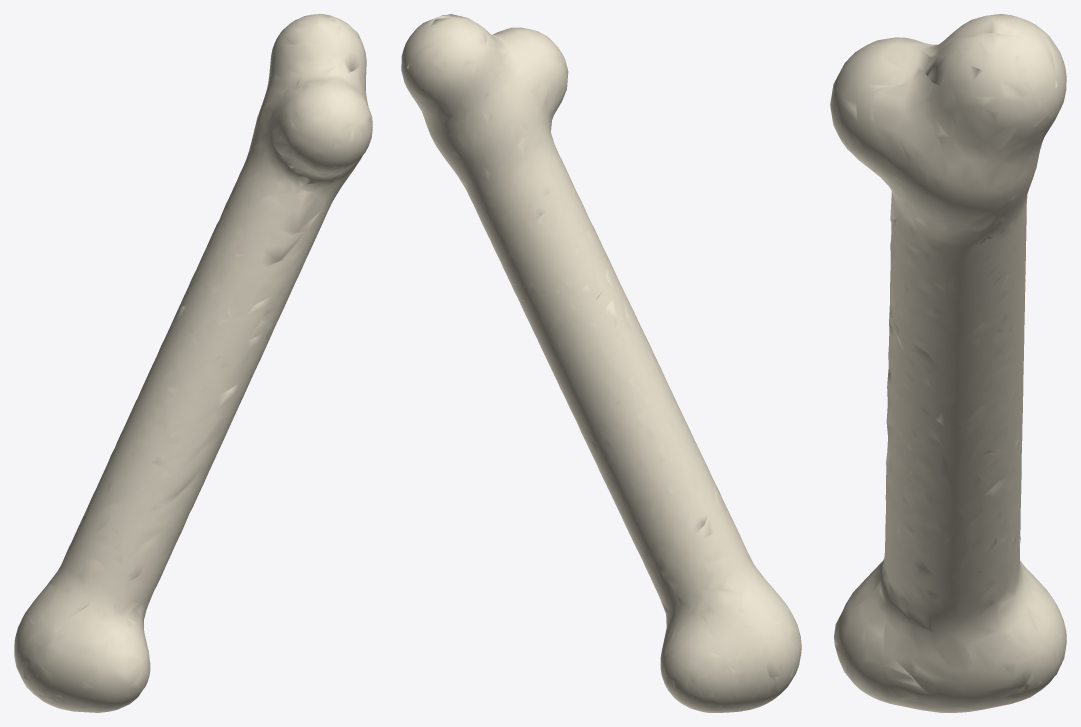
Rendered from femur_r.glb.
3 renders of one model, left to right at view 1: azimuth 30°, elevation 25°; view 2: azimuth 150°, elevation 25°; view 3: azimuth 270°, elevation 25°, orthographic. The views are drawn at different scales.
Parts seen in each view (by area): view 1: geometry_0; view 2: geometry_0; view 3: geometry_0.
Part boxes in pixels (box(x1,y1,x2,y2)): geometry_0: box(14, 14, 372, 712); geometry_0: box(401, 14, 801, 712); geometry_0: box(830, 14, 1066, 712).
Bounding box in the file's own units: 0.6001 × 0.9865 × 0.2457.
